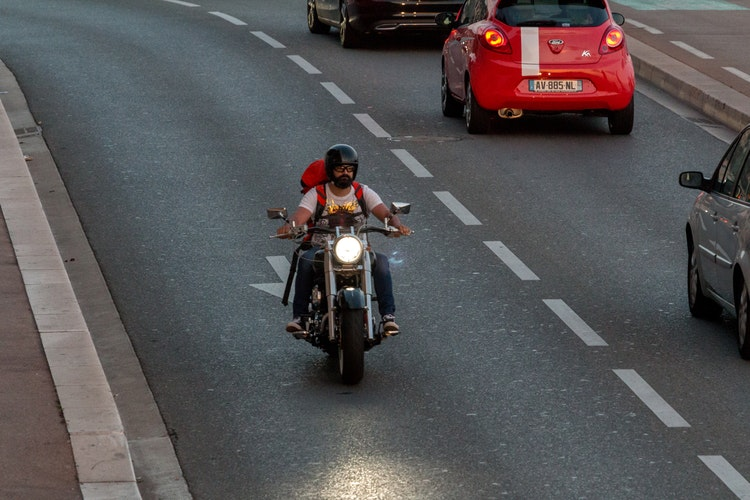helmet: (320, 144, 357, 170)
